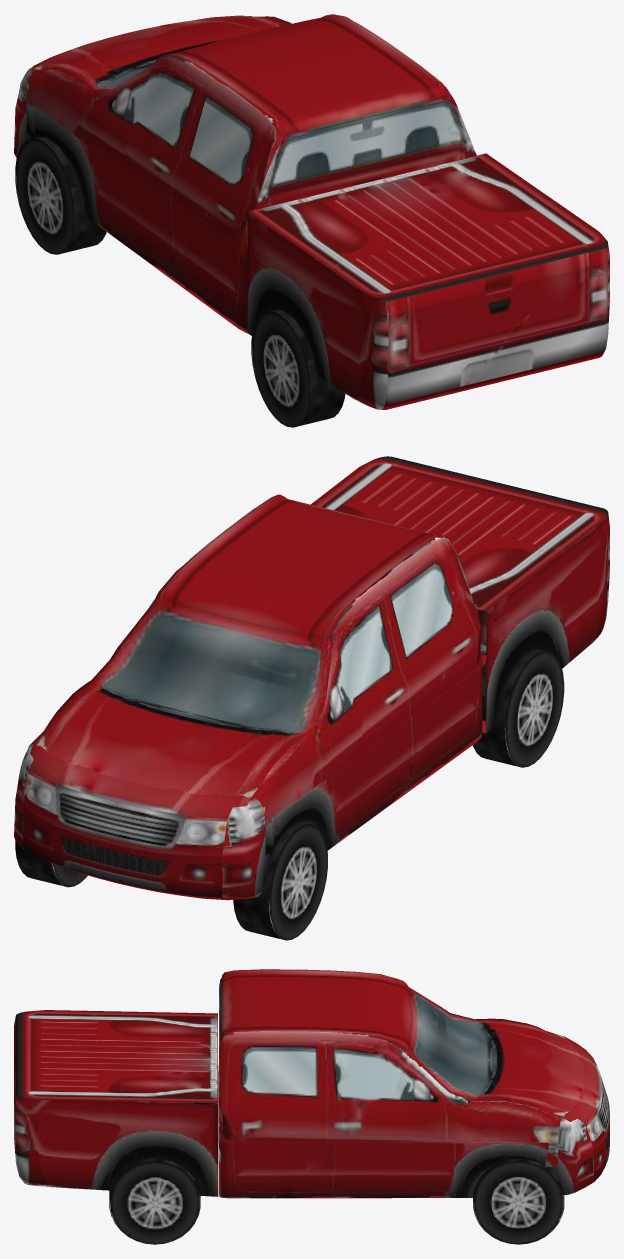
The model's file is pick up.fbx.
The picture shows the model from 3 angles, top to bottom: view 1: azimuth 30°, elevation 25°; view 2: azimuth 150°, elevation 25°; view 3: azimuth 270°, elevation 25°; orthographic projection. The views are drawn at different scales.
Visible parts, largest first — view 1: polySurface9; view 2: polySurface9; view 3: polySurface9.
Part boxes in pixels (<box>): polySurface9: <box>14,14,609,427</box>; polySurface9: <box>14,456,609,940</box>; polySurface9: <box>14,969,609,1244</box>.
Size of the model in its own units: 9.37 by 9.02 by 24.75.
1 material, 1 textured.
